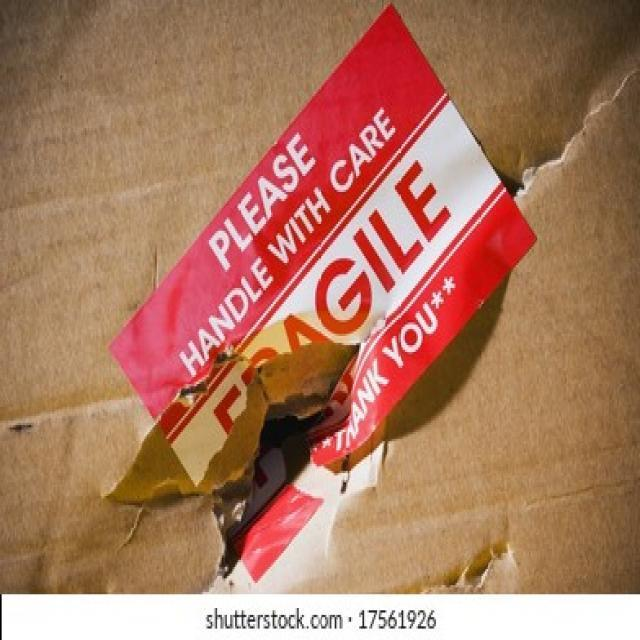hole: (212, 371, 350, 575)
